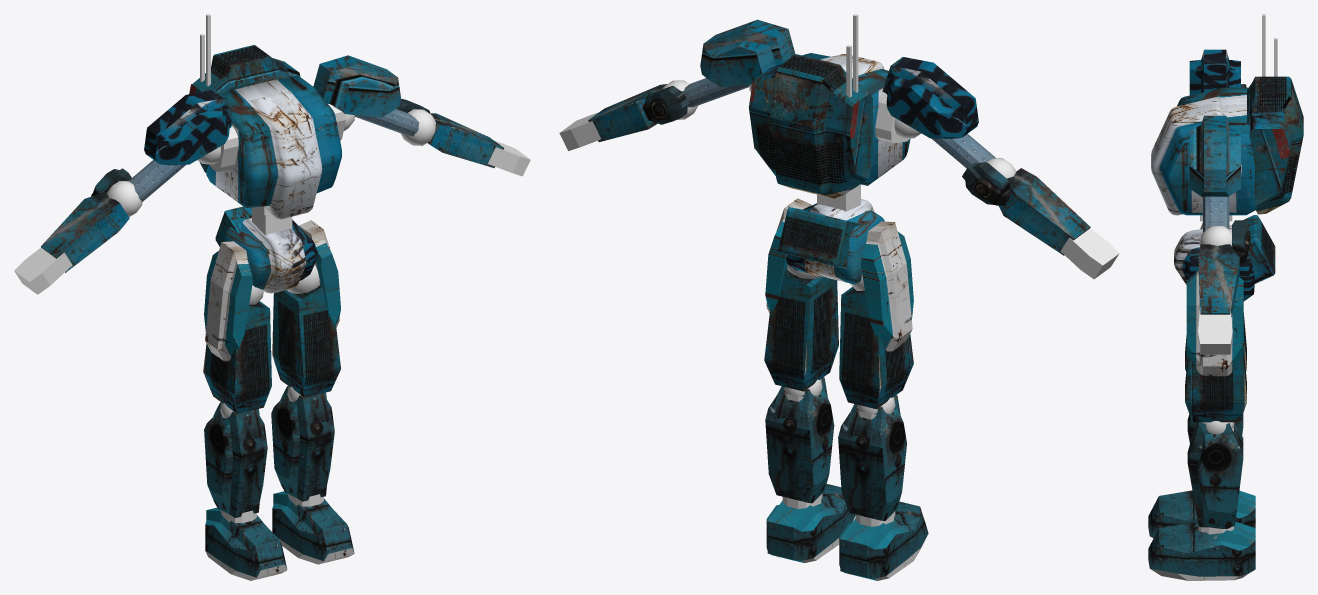
File: Robot 3 Legs and Body.fbx
3 views of the same model, side by side, from view 1: azimuth 30°, elevation 25°; view 2: azimuth 150°, elevation 25°; view 3: azimuth 270°, elevation 25° (orthographic). The views are drawn at different scales.
Parts seen in each view (by area): view 1: Cube.019, Cube.001, Cube.025, Cube.008, Cube.021, Cube.006, Cube.026, Cube.020, Cube.023, Cube.012, Cube.018, Cube.011 (+12 smaller); view 2: Cube.015, Cube.001, Cube.008, Cube.025, Cube.006, Cube.021, Cube.026, Cube.023, Cube.018, Cube.012, Cube.011, Cube.034 (+11 smaller); view 3: Cube.019, Cube.015, Cube.012, Cube.008, Cube.018, Cube.001, Cube.013, Cube.024, Cube.023, Cube.021, Cube.020, Cube.031 (+8 smaller).
Boxes of the visible parts, x1,y1,x2,y2 form: Cube.019: [206, 75, 342, 219]; Cube.001: [272, 285, 340, 397]; Cube.025: [204, 402, 267, 517]; Cube.008: [271, 386, 334, 501]; Cube.021: [144, 89, 232, 165]; Cube.006: [203, 301, 271, 413]; Cube.026: [204, 241, 252, 361]; Cube.020: [224, 218, 317, 293]; Cube.023: [205, 507, 287, 580]; Cube.012: [272, 491, 354, 564]; Cube.018: [313, 55, 400, 117]; Cube.011: [41, 192, 129, 272]; Cube.015: [748, 54, 873, 198]; Cube.001: [764, 270, 838, 391]; Cube.008: [765, 377, 834, 503]; Cube.025: [838, 395, 906, 521]; Cube.006: [839, 286, 913, 409]; Cube.021: [883, 57, 978, 138]; Cube.026: [861, 221, 913, 351]; Cube.023: [839, 501, 928, 580]; Cube.018: [700, 19, 795, 87]; Cube.012: [766, 484, 855, 563]; Cube.011: [999, 168, 1090, 255]; Cube.034: [778, 207, 861, 268]; Cube.019: [1151, 87, 1258, 215]; Cube.015: [1247, 76, 1303, 214]; Cube.012: [1148, 522, 1255, 580]; Cube.008: [1187, 422, 1243, 528]; Cube.018: [1189, 115, 1240, 196]; Cube.001: [1185, 350, 1246, 422]; Cube.013: [1186, 270, 1243, 376]; Cube.024: [1198, 244, 1239, 317]; Cube.023: [1148, 490, 1255, 538]; Cube.021: [1189, 49, 1240, 95]; Cube.020: [1174, 224, 1254, 301]; Cube.031: [1198, 307, 1232, 354].
Size of the model in its own units: 1301 by 1308 by 353.
